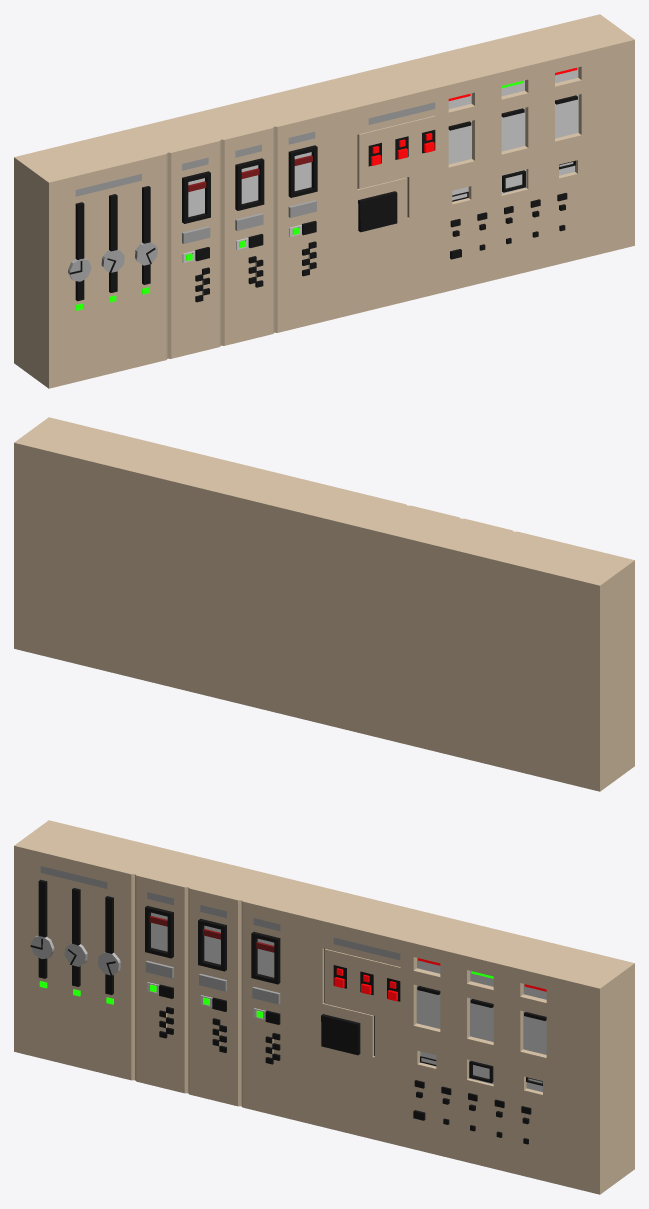
The model's file is Nuclear Control Wall.fbx.
The picture shows the model from 3 angles, top to bottom: view 1: azimuth 30°, elevation 25°; view 2: azimuth 150°, elevation 25°; view 3: azimuth 330°, elevation 25°; orthographic projection.
Parts seen in each view (by area): view 1: Cube; view 2: Cube; view 3: Cube.
Part boxes in pixels (box(x1,y1,x2,y2)): Cube: box(14, 14, 634, 388); Cube: box(14, 417, 634, 791); Cube: box(14, 820, 634, 1194).
Bounding box in the file's own units: 5.95 × 2 × 0.6584.
